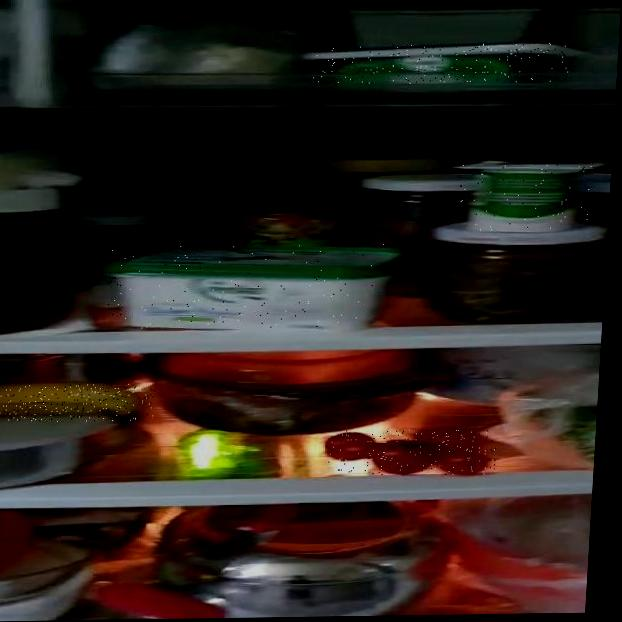banana: (0, 383, 155, 423)
cheese: (105, 243, 386, 330)
cream cheese: (311, 42, 573, 85)
tomato: (327, 428, 497, 477)
yoghurt: (458, 158, 595, 232)
